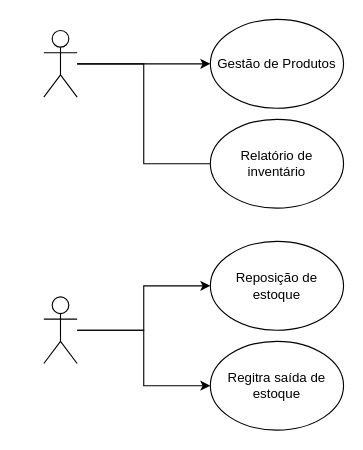
Image size: 363x450. Some labels were removed from this diagram. Here are the shapes that lost their labels. From the top down, the box of each, then its label:
(43, 29, 77, 97): Administrador
(43, 296, 77, 364): Operador
